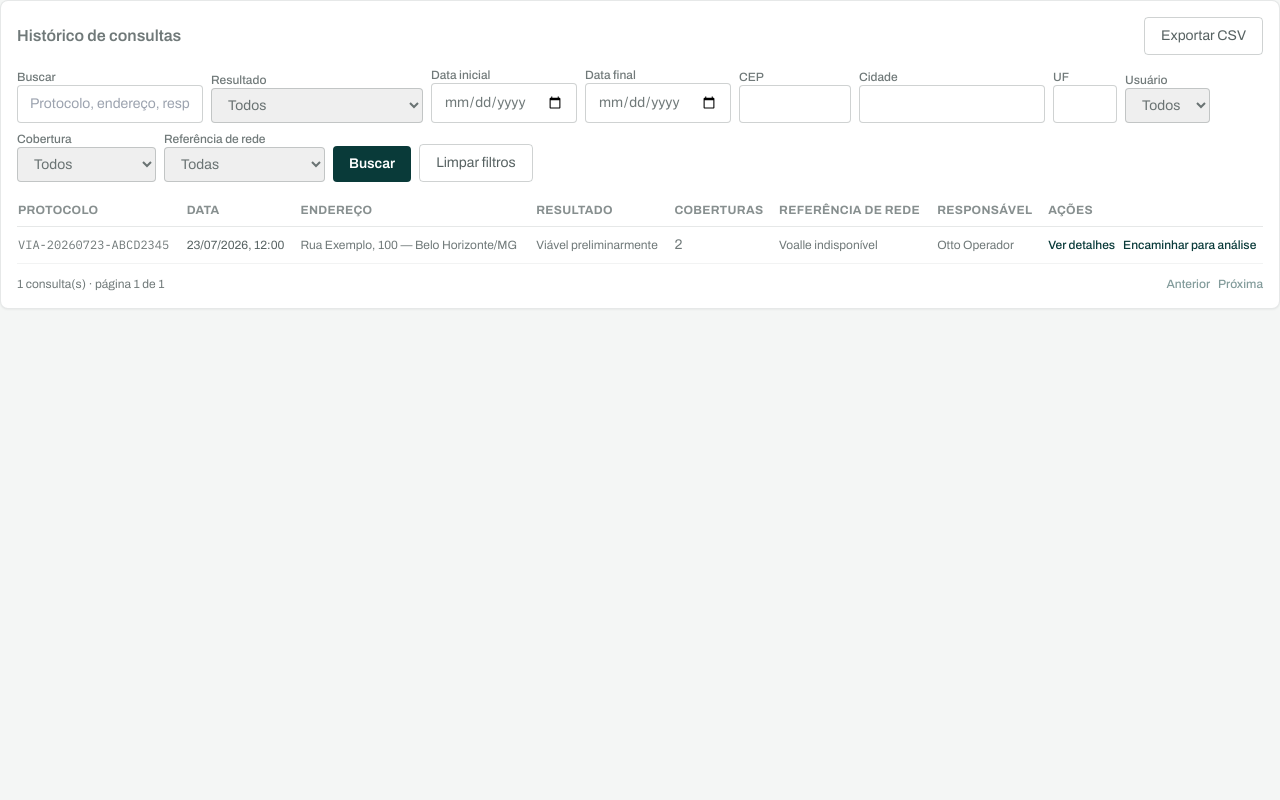
detalhes da consulta › abre os detalhes com endereços, cobertura histórica, referência pública e ajuste manual
Click the button "Ver detalhes": [1082, 245] box [1048, 237, 1115, 253]
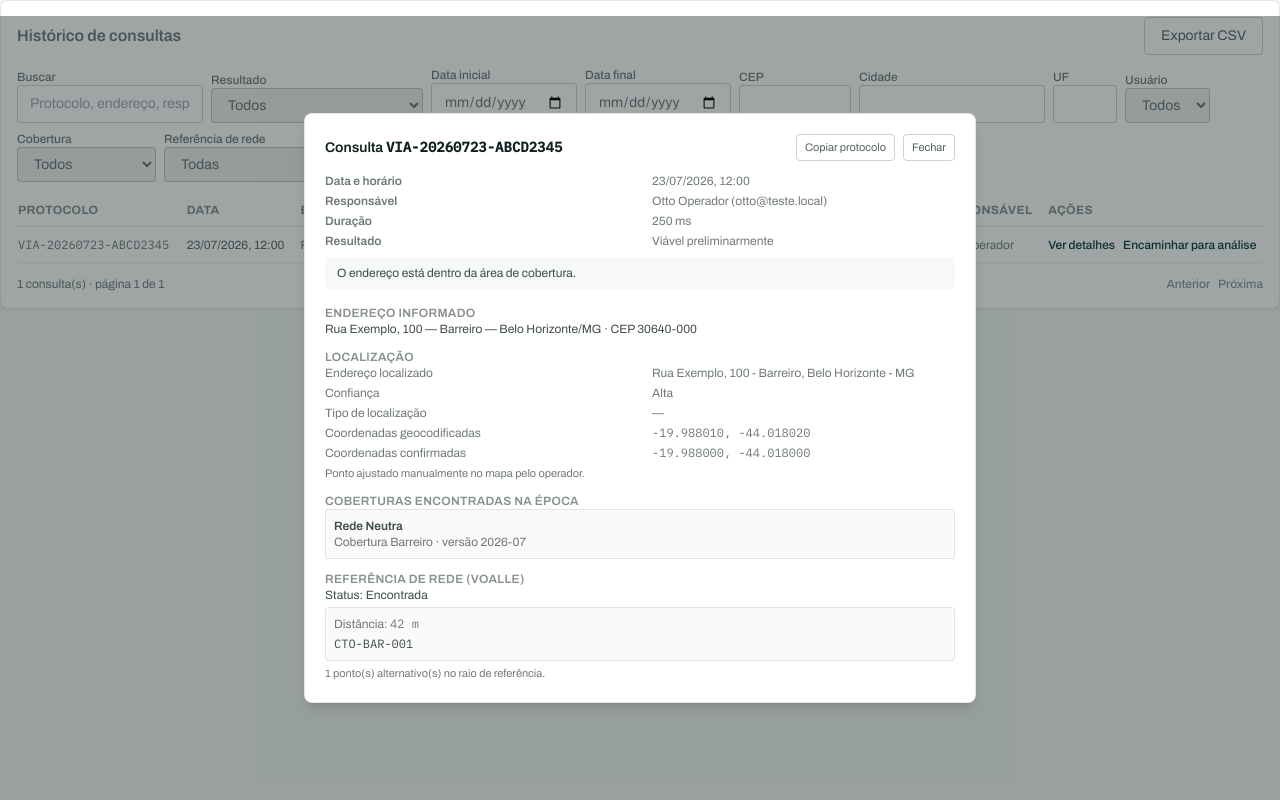
Result: the dialog shows "Rua Exemplo, 100" at [652, 366, 915, 380]
Result: the dialog shows "CEP 30640-000" at [601, 322, 697, 336]
Result: the dialog shows "Rua Exemplo, 100 - Barreiro, Belo Horizonte - MG" at [652, 366, 915, 380]
